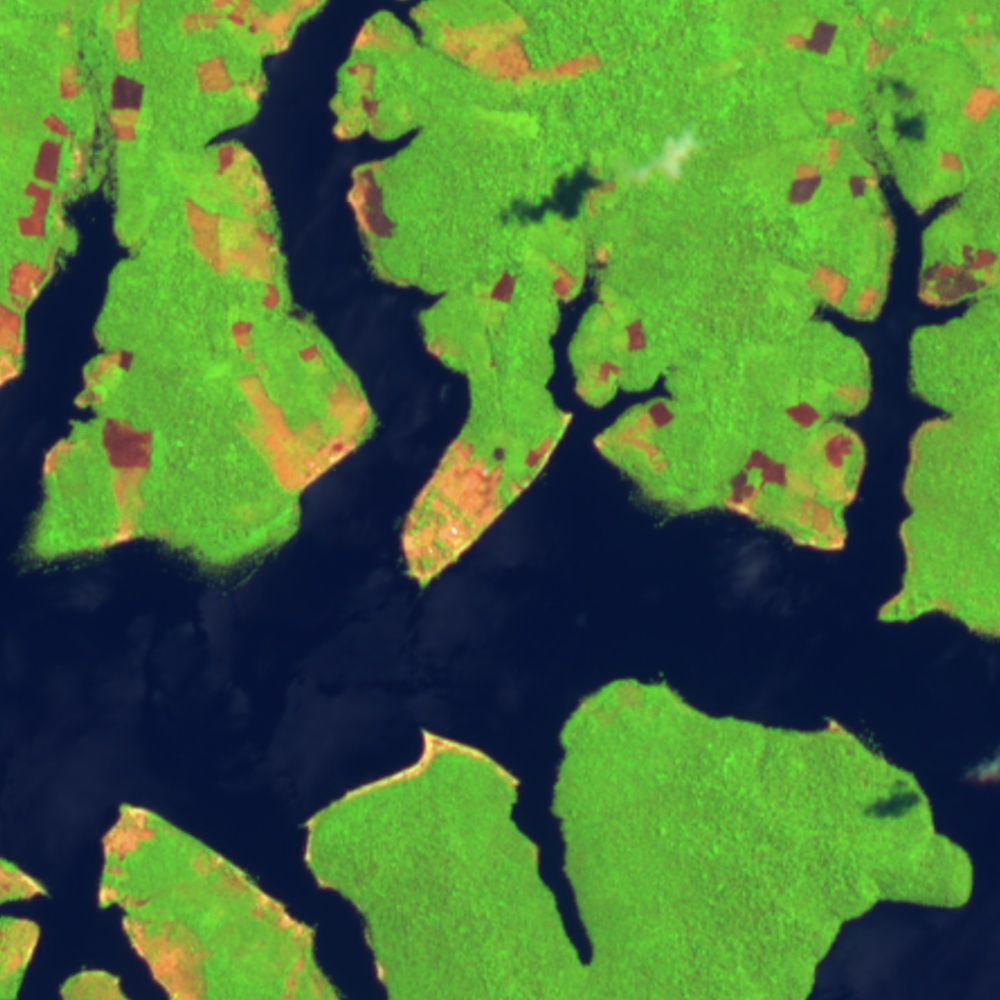legal: (1, 11, 93, 380), (400, 409, 575, 587), (726, 377, 866, 550), (787, 10, 1000, 121), (471, 243, 651, 356), (202, 845, 328, 995), (234, 369, 378, 494), (409, 6, 617, 84), (181, 142, 296, 283), (38, 333, 138, 479), (179, 1, 323, 101), (97, 884, 213, 1000), (790, 137, 907, 242), (578, 360, 678, 478), (343, 161, 412, 289), (228, 285, 331, 362), (333, 14, 392, 146), (95, 1, 149, 144), (100, 416, 158, 544), (327, 754, 434, 813), (1, 852, 56, 964), (423, 727, 523, 784), (917, 240, 1000, 302), (803, 260, 887, 320), (102, 801, 155, 874), (935, 144, 973, 182)
